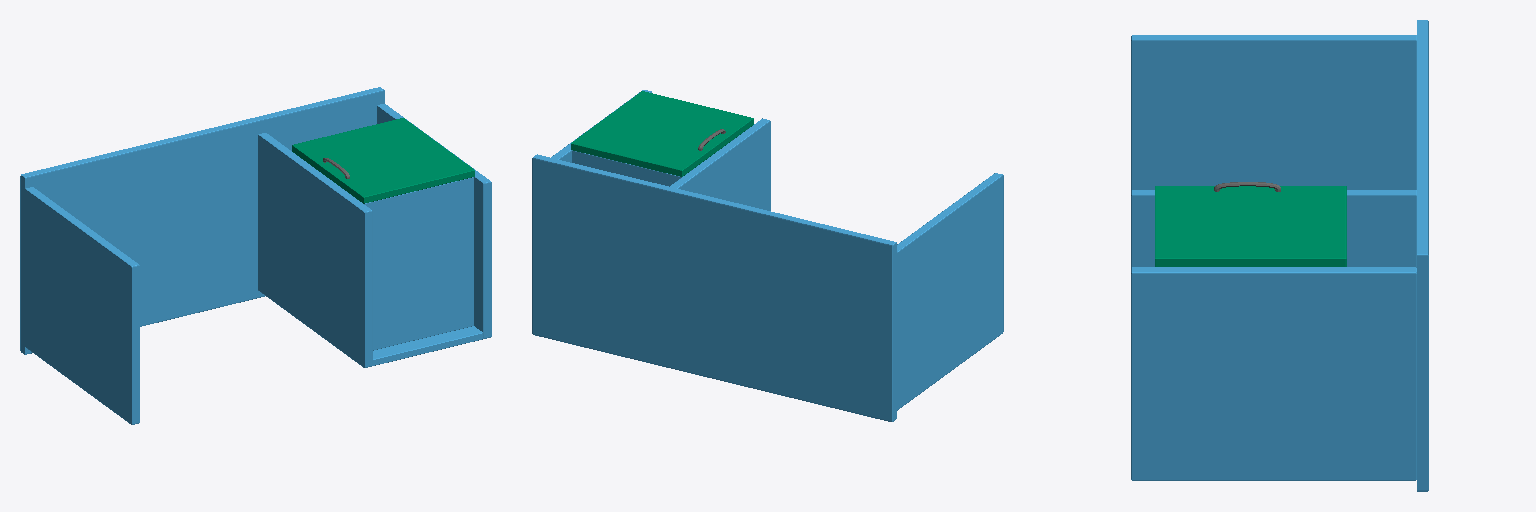
URDF robot description (108):
<robot name="108">


	<link name="0:virtual">
		<visual>
			<origin xyz="0.0 0.0 0.0" rpy="0 0 0"/>
			<geometry>
				<cylinder length="0" radius="0"/>
			</geometry>
		</visual>
	</link>


	<link name="1:static">
		<visual>
			<origin xyz="-0.0 -0.0 -0.0" rpy="0 0 0"/>
			<geometry>
				<mesh filename="../raw_data/108/part_meshes/1.dae" />
			</geometry>
		</visual>
	</link>


	<link name="2:cabinet door 1">
		<visual>
			<origin xyz="-0.6711069941520691 -0.30130400881171227 -0.2929784953594208" rpy="0 0 0"/>
			<geometry>
				<mesh filename="../raw_data/108/part_meshes/2.dae" />
			</geometry>
		</visual>
	</link>


	<joint name="0:virtual::1:static" type="fixed">
		<parent link="0:virtual"/>
		<child link="1:static"/>
		<origin xyz="0.0 0.0 0.0" rpy="0 0 0"/>
	</joint>


	<joint name="0:virtual::2:cabinet door 1_rotation" type="revolute">
		<parent link="0:virtual"/>
		<child link="2:cabinet door 1"/>
		<origin xyz="0.6711069941520691 0.30130400881171227 0.2929784953594208" rpy="0 0 0"/>
		<limit lower="0.0" upper="3.141592653589793" effort="10" velocity="3"/>
		<axis xyz="0.0 1.0 0.0"/>
	</joint>


</robot>

--- Render facts (derived) ---
Views: 3 orthographic renders of the robot side by side, from view 1: azimuth 30°, elevation 25°; view 2: azimuth 150°, elevation 25°; view 3: azimuth 270°, elevation 25°.
Model 108 with 3 links and 2 joints (1 revolute, 1 fixed), rooted at 0:virtual, posed every joint at zero.
Links seen in each view (by area): view 1: 1:static, 2:cabinet door 1; view 2: 1:static, 2:cabinet door 1; view 3: 1:static, 2:cabinet door 1.
Link boxes in pixels (x1,y1,x2,y2): 1:static: [20, 87, 491, 424]; 2:cabinet door 1: [292, 118, 474, 203]; 1:static: [532, 90, 1003, 421]; 2:cabinet door 1: [571, 91, 753, 176]; 1:static: [1131, 20, 1428, 491]; 2:cabinet door 1: [1155, 182, 1346, 266].
Bounding box of the posed robot: 1.4 × 0.75 × 0.66 m (x, y, z).
2 mesh visuals loaded from 2 distinct referenced files (2 Collada DAE).